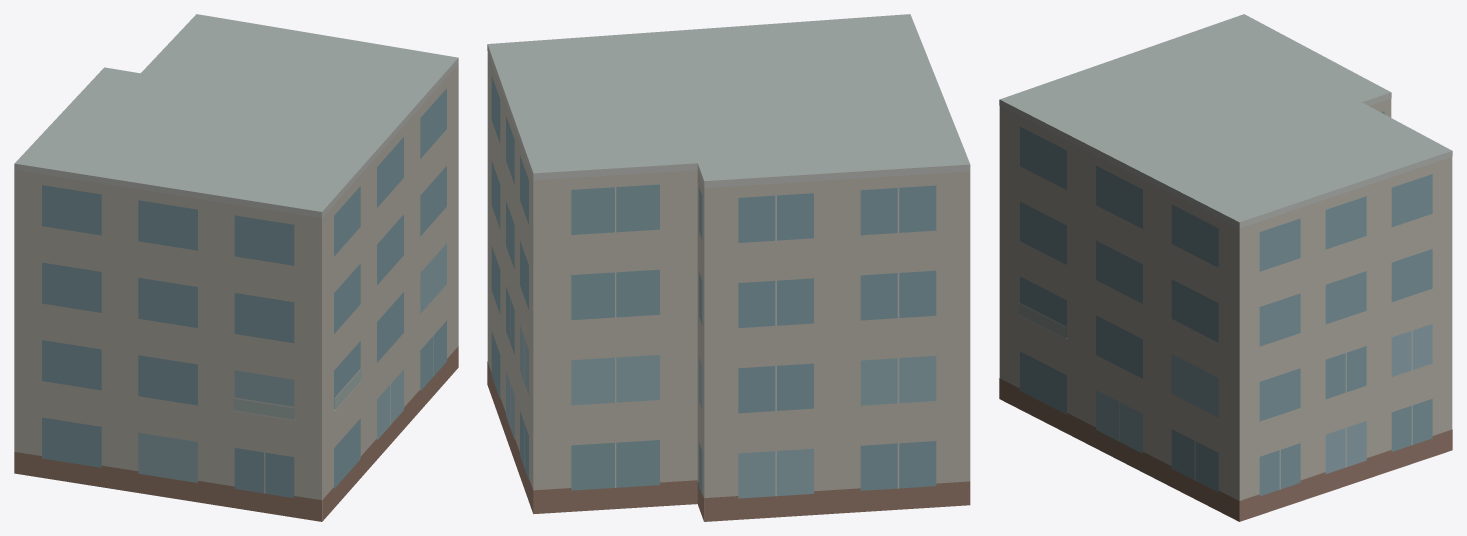
The model's file is survey-upis-32680057.glb.
3 views of the same model, side by side, from view 1: azimuth 30°, elevation 25°; view 2: azimuth 150°, elevation 25°; view 3: azimuth 270°, elevation 25° (orthographic). The views are drawn at different scales.
Parts seen in each view (by area): view 1: survey-upis-32680057.tmp; view 2: survey-upis-32680057.tmp; view 3: survey-upis-32680057.tmp.
Boxes of the visible parts, x1,y1,x2,y2 form: survey-upis-32680057.tmp: (14,14,458,521); survey-upis-32680057.tmp: (487,14,970,521); survey-upis-32680057.tmp: (999,14,1452,521).
Size of the model in its own units: 18.04 by 12.09 by 16.57.
